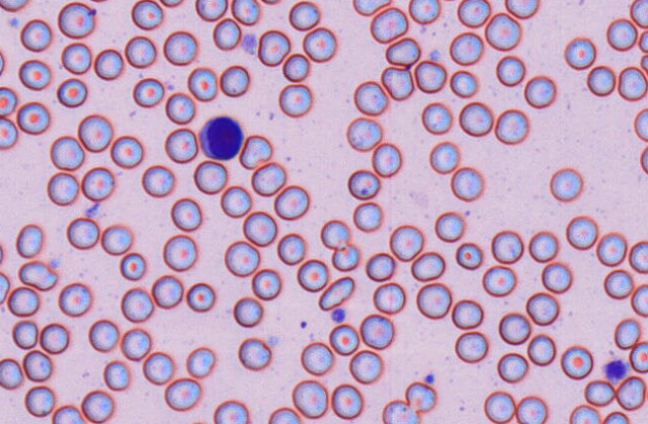LYM: (200, 115, 245, 161)
PLT: (602, 360, 628, 381), (240, 32, 260, 55), (332, 308, 346, 323), (424, 372, 437, 385)
RBC: (291, 379, 328, 418), (369, 6, 407, 43), (484, 12, 520, 51), (57, 1, 94, 38), (77, 114, 112, 152), (273, 184, 309, 220), (416, 282, 451, 319), (162, 234, 197, 271), (494, 108, 529, 144), (224, 240, 259, 276), (359, 313, 394, 349), (164, 377, 201, 411), (389, 224, 423, 261), (49, 135, 84, 170), (346, 116, 381, 151), (458, 101, 493, 136), (242, 210, 276, 246), (164, 127, 198, 163), (302, 26, 336, 62), (257, 29, 290, 66), (193, 159, 227, 194), (251, 161, 285, 196), (163, 30, 197, 65), (353, 80, 387, 115), (348, 349, 382, 383), (449, 31, 483, 65), (278, 83, 312, 117), (549, 167, 583, 201), (120, 287, 153, 322), (81, 166, 114, 201), (380, 65, 413, 100), (450, 166, 483, 201), (58, 282, 91, 316), (237, 337, 271, 370), (81, 389, 114, 423), (525, 291, 558, 325), (413, 59, 446, 93), (565, 215, 598, 249), (300, 341, 333, 375), (560, 345, 593, 379), (331, 383, 362, 419), (141, 164, 174, 197), (372, 281, 405, 314), (110, 135, 143, 168), (523, 75, 556, 108), (16, 101, 49, 134), (563, 36, 596, 69), (491, 229, 523, 263), (151, 274, 183, 308), (482, 264, 516, 296), (596, 231, 627, 266), (617, 65, 647, 101), (483, 390, 515, 423), (66, 217, 99, 249), (124, 35, 156, 68), (47, 171, 78, 205), (170, 197, 201, 231), (606, 17, 637, 51), (297, 258, 328, 292), (371, 142, 401, 177), (615, 375, 645, 410), (410, 251, 445, 281), (385, 36, 420, 66), (187, 66, 217, 101), (498, 312, 530, 344), (142, 351, 173, 384), (120, 327, 151, 360), (454, 331, 487, 362), (20, 18, 51, 51), (421, 101, 452, 134), (429, 140, 459, 174), (220, 185, 251, 217), (7, 285, 39, 316), (451, 298, 483, 329), (541, 261, 572, 293), (18, 59, 50, 90), (347, 169, 380, 199), (88, 319, 118, 352), (165, 91, 195, 124), (101, 224, 132, 255), (24, 385, 54, 417), (22, 349, 52, 381), (496, 352, 528, 382), (61, 42, 91, 74), (329, 323, 359, 355), (131, 0, 163, 30), (219, 64, 249, 96), (132, 77, 164, 107), (495, 54, 525, 86), (93, 48, 123, 80), (528, 230, 558, 262), (288, 0, 320, 30), (212, 17, 241, 50), (603, 268, 633, 299), (233, 296, 263, 327), (185, 346, 215, 377), (434, 211, 464, 242), (56, 77, 87, 107), (527, 333, 556, 365), (251, 268, 280, 300), (15, 223, 42, 257), (456, 0, 490, 27), (405, 381, 435, 411), (352, 201, 382, 231), (39, 322, 68, 353), (586, 65, 615, 96), (277, 232, 305, 264), (515, 395, 547, 423), (381, 399, 418, 423), (320, 219, 349, 249), (365, 252, 395, 281), (213, 399, 248, 423), (186, 282, 214, 312), (584, 379, 615, 406), (613, 318, 640, 349), (11, 319, 38, 349), (331, 243, 359, 271), (449, 69, 477, 97), (282, 52, 309, 81), (103, 360, 129, 390), (408, 0, 440, 24), (0, 357, 23, 389), (455, 242, 482, 269), (119, 252, 145, 280), (231, 0, 259, 25), (195, 0, 227, 21), (51, 404, 85, 423), (504, 0, 539, 18), (628, 240, 647, 273), (568, 404, 600, 423), (630, 283, 647, 317), (629, 341, 647, 373), (0, 116, 17, 149), (268, 406, 300, 423), (630, 0, 648, 28), (0, 86, 16, 116), (634, 107, 647, 141), (601, 410, 629, 423), (0, 0, 28, 11), (0, 271, 9, 304), (640, 144, 648, 174), (638, 29, 648, 52), (159, 0, 184, 7), (640, 53, 648, 73), (260, 0, 282, 5), (0, 51, 4, 75), (0, 242, 3, 264), (88, 0, 111, 2), (437, 0, 460, 1)
Schistocyte: (316, 275, 357, 311), (239, 134, 274, 170), (18, 261, 60, 290), (351, 0, 393, 18)
